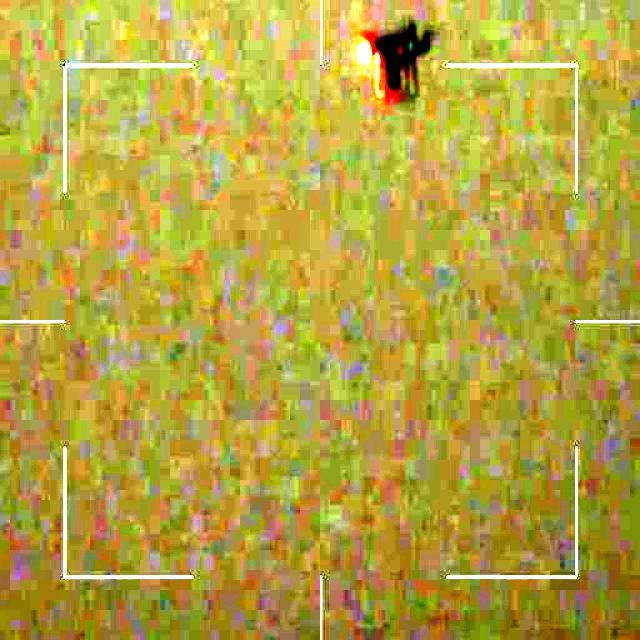bird: (345, 20, 435, 116)
